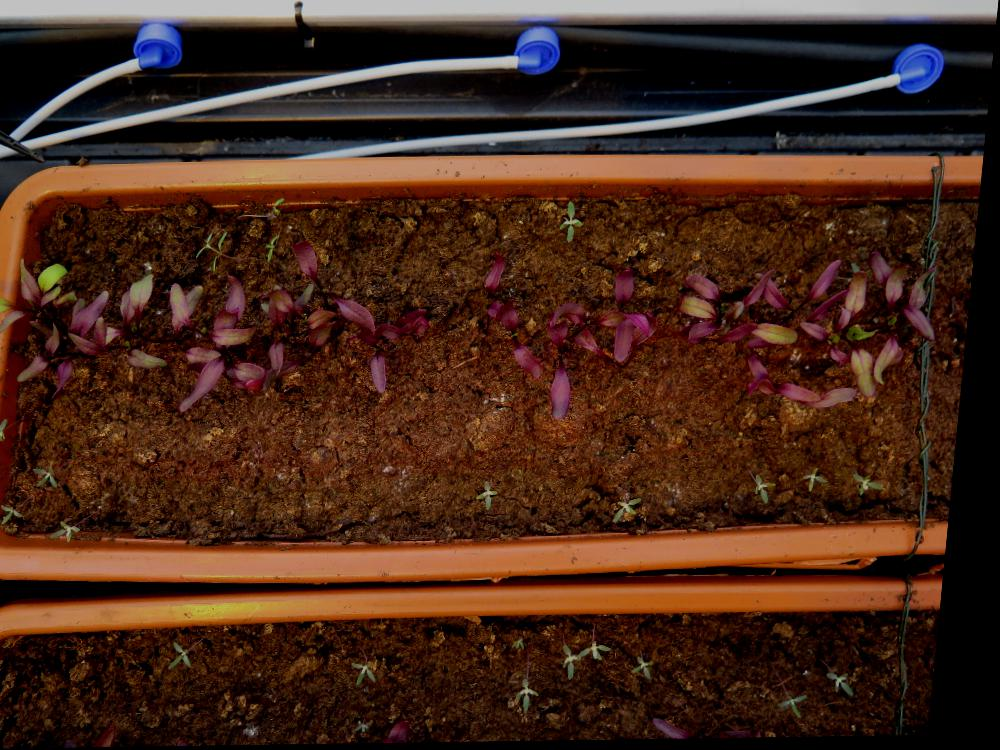weed: (561, 200, 590, 245), (526, 677, 554, 716), (858, 472, 895, 499), (787, 695, 822, 722), (836, 672, 869, 700), (38, 461, 69, 489), (760, 473, 786, 506), (483, 480, 509, 512), (58, 518, 91, 543), (809, 467, 837, 496), (622, 498, 652, 525), (180, 640, 205, 671), (361, 661, 390, 687), (643, 655, 669, 683), (6, 502, 35, 525), (198, 230, 218, 259), (268, 232, 284, 265), (0, 416, 15, 442)
